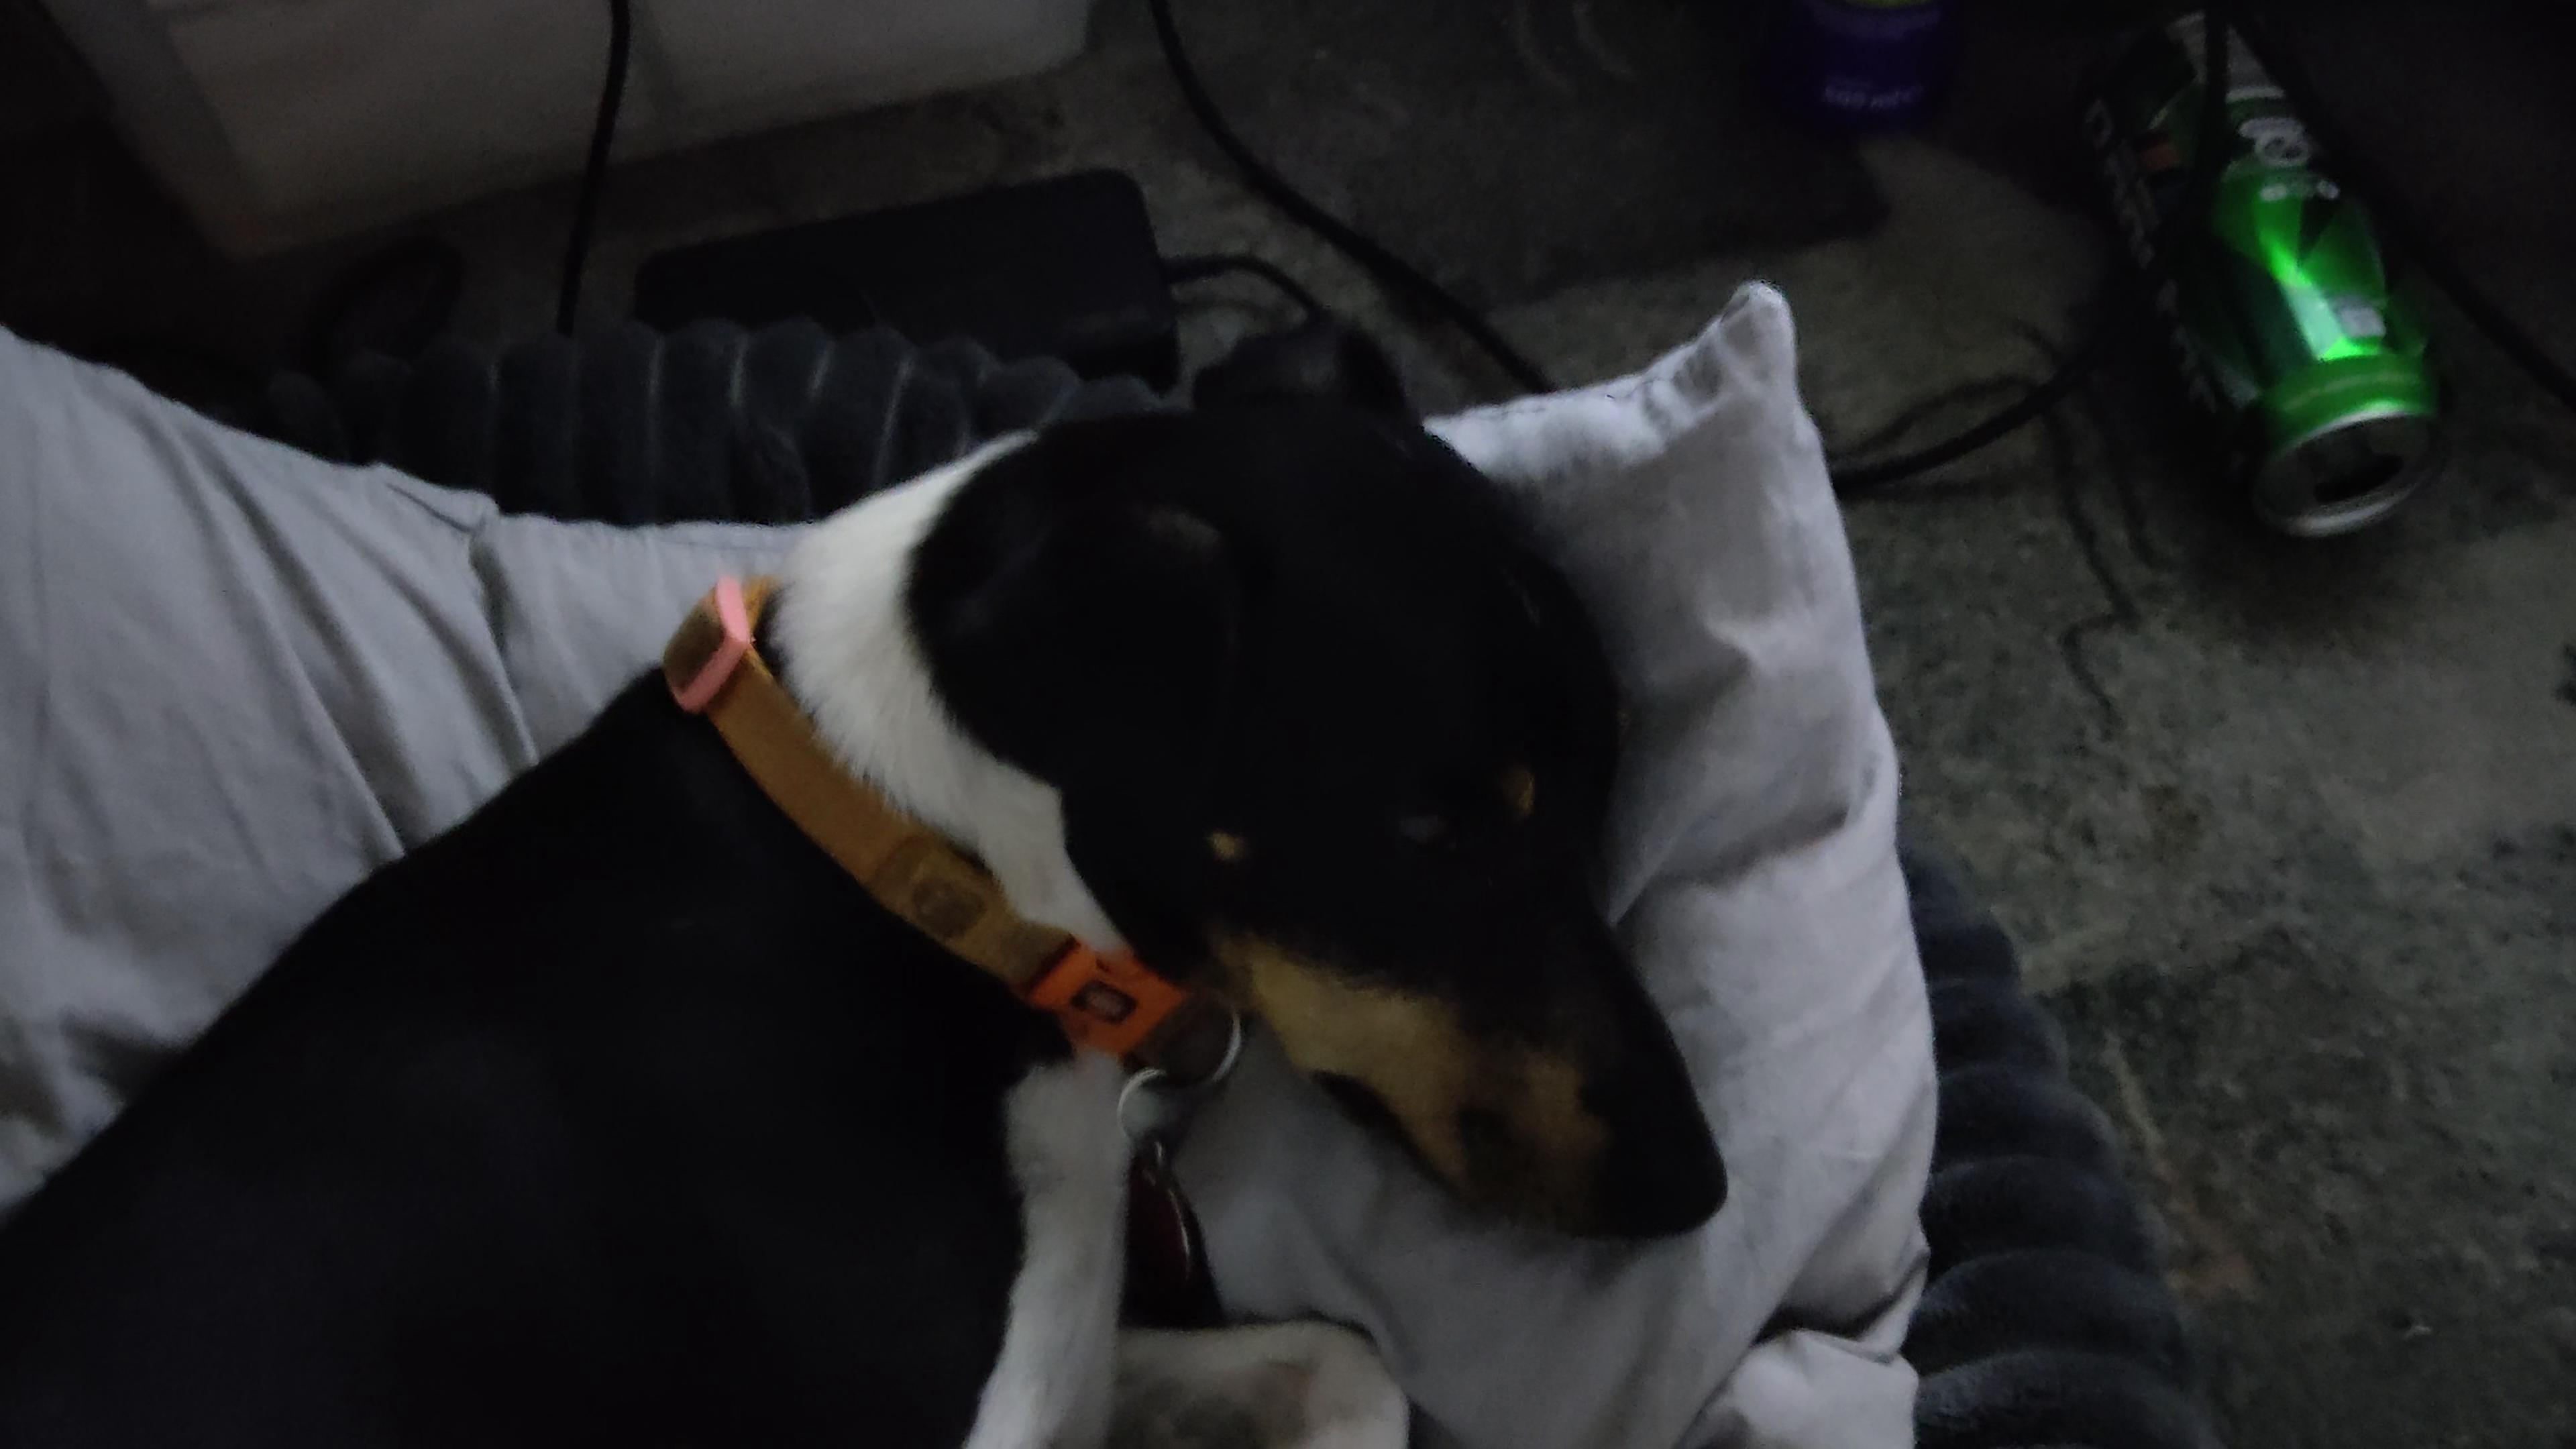Dog: (0, 292, 1739, 1449)
